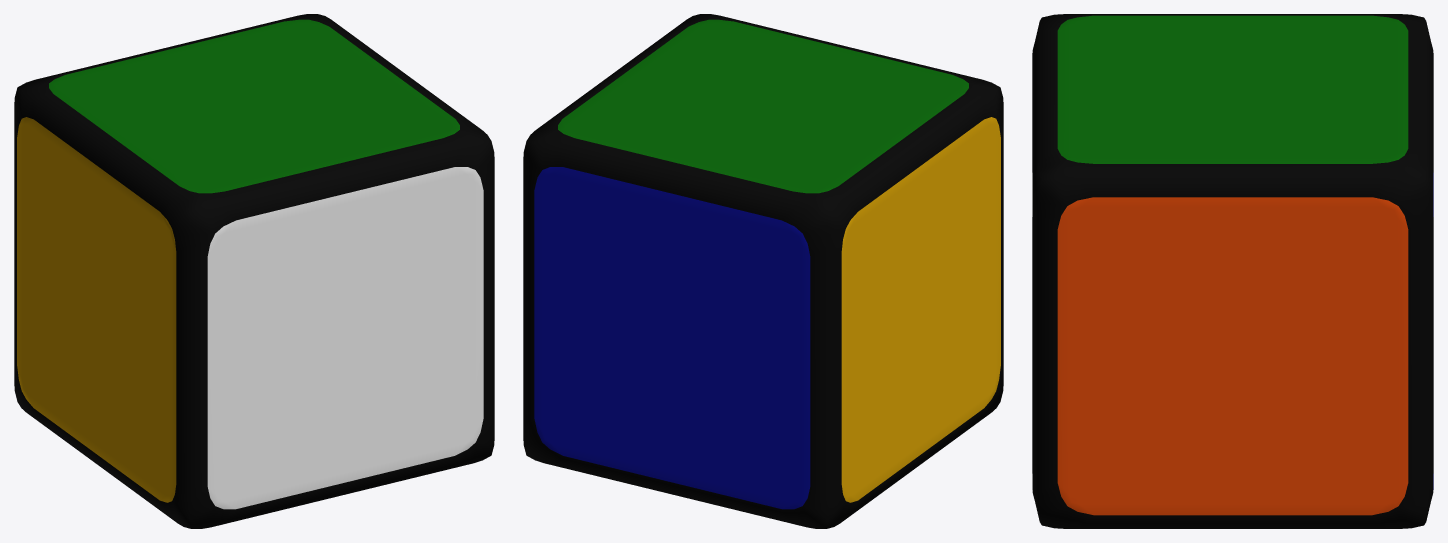
The picture shows the model from 3 angles, left to right: view 1: azimuth 30°, elevation 25°; view 2: azimuth 150°, elevation 25°; view 3: azimuth 270°, elevation 25°; orthographic projection. The views are drawn at different scales.
Visible parts, largest first — view 1: 11; view 2: 11; view 3: 11.
Boxes of the visible parts, x1,y1,x2,y2 form: 11: (14, 14, 494, 528); 11: (523, 14, 1003, 528); 11: (1032, 14, 1433, 528).
Size of the model in its own units: 10 by 10 by 10.
